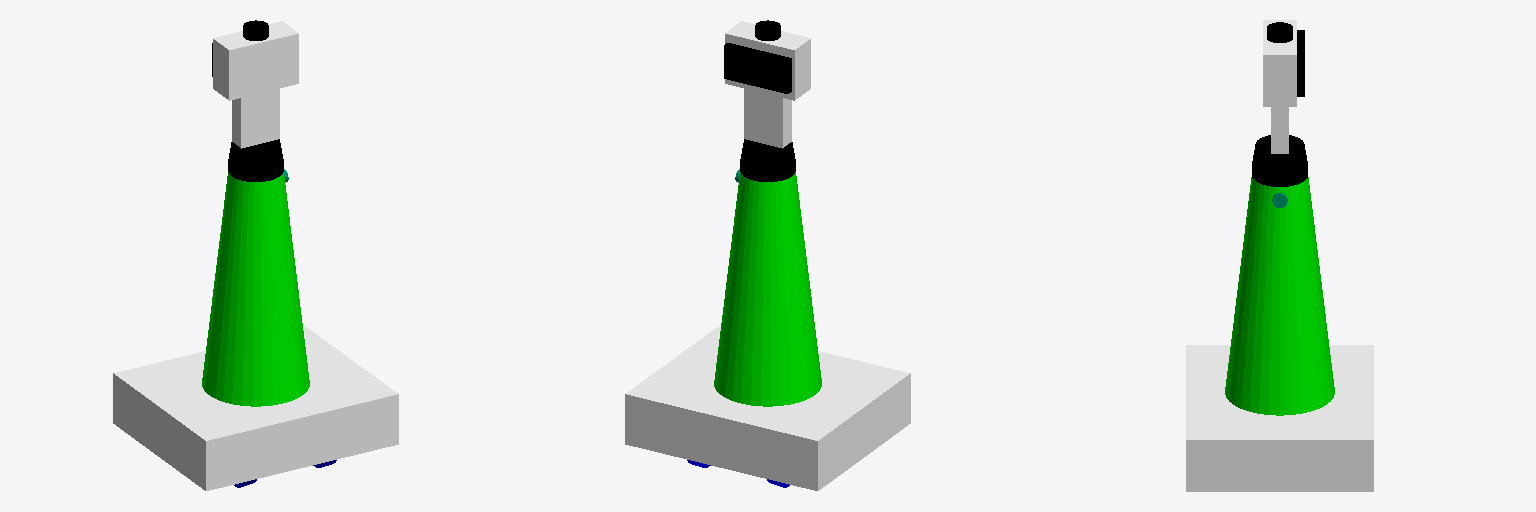
URDF robot description (isrobot):
<?xml version="1.0"?>

<robot xmlns:xacro="http://www.ros.org/wiki/xacro" name="isrobot" is_static="True">
  
  <link name="base_link">
    <visual>
      <origin xyz="0 0 0.13" rpy="0 0 0"/>
      <geometry>
        <box size="0.6 0.5 0.15"/>
      </geometry>
      <material name="base_material">
        <color rgba="1 1 1 1"/>
      </material>
    </visual>
    <collision>
      <origin xyz="0 0 0.13" rpy="0 0 0"/>
      <geometry>
        <box size="0.6 0.5 0.15"/>
      </geometry>
    </collision>
    <inertial>
        <mass value="3" />
        <origin xyz="0 0 0" rpy="0 0 0" />
        <inertia ixx="0.068125" ixy="0" ixz="0" iyy="0.002025" iyz="0" izz="0.09" />
    </inertial>
  </link>

  <joint name="base_frustum" type="fixed">
    <origin xyz="0 0 0" rpy="0 0 0"/>
    <parent link="base_link"/>
    <child link="frustum_link"/>
    <axis xyz="0 0 1"/>
    <dynamics damping="0.5" friction="0.1"/>
  </joint>

  <!-- Frustum Link -->
  <link name="frustum_link">
    <!-- Visual Properties for the frustum (customize as needed) -->
    <visual>
      <origin rpy="0 0 0" xyz="0 0 0.505"/> <!-- Adjust the position -->
      <geometry>
        <mesh filename="package://hardware_interface_pkg/meshes/frustum.dae"/>
      </geometry>
      <material name="frustum_material">
        <color rgba="0 1 0 1"/> <!-- black color for the frustum -->
      </material>
    </visual>
    <!-- Collision Properties for the frustum (customize as needed) -->
    <collision>
      <geometry>
        <mesh filename="package://hardware_interface_pkg/meshes/frustum.dae"/>
      </geometry>
    </collision>
    <inertial>
        <mass value="2.5" />
        <origin xyz="0 0 0" rpy="0 0 0" />
        <inertia ixx="0.02382" ixy="0" ixz="0" iyy="0.00664" iyz="0" izz="0.00664"/>
    </inertial>
  </link>

  <link name="camera_frustum_link">
    <visual>
    <origin xyz="0.08 0 0.805" rpy="0 1.5 0"/>
      <geometry>
        <cylinder length="0.02" radius="0.02"/>
      </geometry>
    </visual>
    <!-- Collision Properties for the wheel (customize as needed) -->
    <collision>
      <geometry>
        <cylinder length="0.02" radius="0.02"/>
      </geometry>
    </collision>
    <inertial>
        <mass value="0.015" />
        <origin xyz="0 0 0" rpy="0 0 0" />
        <inertia ixx="0" ixy="0" ixz="0" iyy="0" iyz="0" izz="0" />
    </inertial>
  </link>

  <joint name="frustum_cylinder" type="fixed">
    <origin xyz="0 0 0" rpy="0 0 0"/>
    <parent link="frustum_link"/>
    <child link="cylindrical_link"/>
    <axis xyz="0 0 1"/>
    <dynamics damping="0.5" friction="0.1"/>
  </joint>

  <joint name="frustum_camera" type="fixed">
    <origin xyz="0 0 0" rpy="0 0 0"/>
    <parent link="frustum_link"/>
    <child link="camera_frustum_link"/>
    <axis xyz="0 0 1"/>
    <dynamics damping="0.5" friction="0.1"/>
  </joint>

  <!-- Cylindrical Link -->
  <link name="cylindrical_link">
    <!-- Visual Properties for the cylindrical shape (customize as needed) -->
    <visual>
      <origin rpy="0 0 0" xyz="0 0 0.8353"/> <!-- Adjust the position -->
      <geometry>
        <cylinder length="0.0606" radius="0.075"/> <!-- Adjust dimensions for the cylinder -->
      </geometry>
      <material name="cylindrical_material">
        <color rgba="0 0 0 1"/> <!-- Red color for the cylindrical shape -->
      </material>
    </visual>
    <!-- Collision Properties for the cylindrical shape (customize as needed) -->
    <collision>
      <geometry>
        <cylinder length="0.0606" radius="0.15"/> <!-- Adjust dimensions for collision -->
      </geometry>
    </collision>
    <inertial>
        <mass value="0.25" />
        <origin xyz="0 0 0" rpy="0 0 0" />
        <inertia ixx="0.000137" ixy="0" ixz="0" iyy="0.000137" iyz="0" izz="0.000137" />
    </inertial>
  </link>

  <joint name="cylindrical_midbody" type="fixed">
    <origin xyz="0 0 0" rpy="0 0 0"/>
    <parent link="cylindrical_link"/>
    <child link="midbody_link"/>
    <axis xyz="0 0 1"/>
  </joint>

  <!-- Spherical Link -->
  <link name="midbody_link">
    <!-- Visual Properties for the spherical shape (customize as needed) -->
    <visual>
      <origin rpy="0 0 0" xyz="0 0 0.8996"/> <!-- Adjust the position -->
      <geometry>
        <mesh filename="package://hardware_interface_pkg/meshes/midbody.dae"/>
      </geometry>
      <material name="spherical_material">
        <color rgba="0 0 0 1"/> <!-- Blue color for the spherical shape -->
      </material>
    </visual>
    <!-- Collision Properties for the spherical shape (customize as needed) -->
    <collision>
      <geometry>
        <mesh filename="package://hardware_interface_pkg/meshes/midbody.dae"/>
      </geometry>
    </collision>
    <inertial>
        <mass value="0.25" />
        <origin xyz="0 0 0" rpy="0 0 0" />
        <inertia ixx="0.0000488" ixy="0" ixz="0" iyy="0.000013" iyz="0" izz="0.000013" />
    </inertial>
  </link>

  <joint name="midbody_cuboidal" type="fixed">
    <origin xyz="0 0 0" rpy="0 0 0"/>
    <parent link="midbody_link"/>
    <child link="cuboidal_link"/>
    <axis xyz="0 0 1"/>
  </joint>

  <!-- Cuboidal Link -->
  <link name="cuboidal_link">
    <!-- Visual Properties for the cuboidal shape (customize as needed) -->
    <visual>
      <origin rpy="0 0 0" xyz="0 0 1.05"/> <!-- Adjust the position -->
      <geometry>
        <box size="0.12 0.05 0.268"/> <!-- Adjust dimensions for the cuboid -->
      </geometry>
      <material name="cuboidal_material">
        <color rgba="1 1 1 1"/> <!-- Yellow color for the cuboidal shape -->
      </material>
    </visual>
    <!-- Collision Properties for the cuboidal shape (customize as needed) -->
    <collision>
      <geometry>
        <box size="0.12 0.05 0.268"/> <!-- Adjust dimensions for collision -->
      </geometry>
    </collision>
    <inertial>
        <mass value="0.5" />
        <origin xyz="0 0 0" rpy="0 0 0" />
        <inertia ixx="0.018581" ixy="0" ixz="0" iyy="0.000258" iyz="0" izz="0.000009" />
    </inertial>
  </link>

  <joint name="cuboidal_head" type="fixed">
    <origin xyz="0 0 0" rpy="0 0 0"/>
    <parent link="cuboidal_link"/>
    <child link="head_link"/>
    <axis xyz="0 0 1"/>
  </joint>

  <!-- Head Link (Add visual, collision, inertial, and joints as needed) -->
  <link name="head_link">
    <!-- Visual Properties for the cuboidal shape (customize as needed) -->
    <visual>
      <origin rpy="0 0 0" xyz="0 0 1.1666"/> <!-- Adjust the position -->
      <geometry>
        <box size="0.2184 0.09 0.15"/> <!-- Adjust dimensions for the cuboid -->
      </geometry>
      <material name="cuboidal_material">
        <color rgba="1 1 1 1"/> <!-- Yellow color for the cuboidal shape -->
      </material>
    </visual>
    <!-- Collision Properties for the cuboidal shape (customize as needed) -->
    <collision>
      <geometry>
        <box size="0.2184 0.09 0.15"/> <!-- Adjust dimensions for collision -->
      </geometry>
    </collision>
    <inertial>
        <mass value="1" />
        <origin xyz="0 0 0" rpy="0 0 0" />
        <inertia ixx="0.00765" ixy="0" ixz="0" iyy="0.01755" iyz="0" izz="0.014" />
    </inertial>
  </link>

  <joint name="head_display" type="fixed">
    <origin xyz="0 0 0" rpy="0 0 0"/>
    <parent link="head_link"/>
    <child link="display_link"/>
    <axis xyz="0 0 1"/>
  </joint>

  <!-- Head Link (Add visual, collision, inertial, and joints as needed) -->
  <link name="display_link">
    <!-- Visual Properties for the cuboidal shape (customize as needed) -->
    <visual>
      <origin rpy="0 0 0" xyz="0 0.03 1.1666"/> <!-- Adjust the position -->
      <geometry>
        <box size="0.2 0.07 0.1"/> <!-- Adjust dimensions for the cuboid -->
      </geometry>
      <material name="cuboidal_material">
        <color rgba="0 0 0 1"/> <!-- Yellow color for the cuboidal shape -->
      </material>
    </visual>
    <!-- Collision Properties for the cuboidal shape (customize as needed) -->
    <collision>
      <geometry>
        <box size="0.2 0.07 0.1"/> <!-- Adjust dimensions for collision -->
      </geometry>
    </collision>
    <inertial>
        <mass value="0.6" />
        <origin xyz="0 0 0" rpy="0 0 0" />
        <inertia ixx="0.0043725" ixy="0" ixz="0" iyy="0.0125" iyz="0" izz="0.011225" />
    </inertial>
  </link>

  <joint name="head_lidar" type="fixed">
    <origin xyz="0 0 0" rpy="0 0 0"/>
    <parent link="head_link"/>
    <child link="lidar_link"/>
    <axis xyz="0 0 1"/>
  </joint>

<!-- Lidar Link -->
  <link name="lidar_link">
    <!-- Visual Properties for the lidar (customize as needed) -->
    <visual>
    <origin rpy="0 0 0" xyz="0 0 1.256" />
      <geometry>
        <cylinder length="0.03" radius="0.035"/>
      </geometry>
      <material name="lidar_material">
        <color rgba="0 0 0 1"/> <!-- Red color for lidar -->
    </material>
    </visual>
    <!-- Collision Properties for the lidar (customize as needed) -->
    <collision>
      <geometry>
        <cylinder length="0.03" radius="0.035"/>
      </geometry>
    </collision>
    <inertial>
        <mass value="0.15" />
        <origin xyz="0 0 0" rpy="0 0 0" />
        <inertia ixx="0.00013" ixy="0" ixz="0" iyy="0.00013" iyz="0" izz="0.000065" />
    </inertial>
  </link>

  <!-- Wheel Link -->
  <link name="wheel_link_1">
    
    <!-- Visual Properties for the wheel (customize as needed) -->
    <visual>
    <origin xyz="0 0 0" rpy="0 1.5 0"/>
      <geometry>
        <cylinder length="0.04" radius="0.07"/>
      </geometry>
      <material name="wheel_material">
        <color rgba="0 0 1 1"/> <!-- Black color for the wheel -->
      </material>
    </visual>
    <!-- Collision Properties for the wheel (customize as needed) -->
    <collision>
      <geometry>
        <cylinder length="0.04" radius="0.07"/>
      </geometry>
    </collision>
    <inertial>
        <mass value="0.15" />
        <origin xyz="0 0 0" rpy="0 0 0" />
        <inertia ixx="0.004" ixy="0.001" ixz="0" iyy="0.006" iyz="0" izz="0.007" />
    </inertial>
  </link>

  <!-- Wheel Link -->
  <link name="wheel_link_2">
    
    <!-- Visual Properties for the wheel (customize as needed) -->
    <visual>
    <origin xyz="0 0 0" rpy="0 1.5 0"/>
      <geometry>
        <cylinder length="0.04" radius="0.07"/>
      </geometry>
      <material name="wheel_material">
        <color rgba="0 0 1 1"/> <!-- Black color for the wheel -->
      </material>
    </visual>
    <!-- Collision Properties for the wheel (customize as needed) -->
    <collision>
      <geometry>
        <cylinder length="0.04" radius="0.07"/>
      </geometry>
    </collision>
    <inertial>
        <mass value="0.15" />
        <origin xyz="0 0 0" rpy="0 0 0"/>
        <inertia ixx="0.004" ixy="0.001" ixz="0" iyy="0.006" iyz="0" izz="0.007" />
    </inertial>
  </link>

  <!-- Wheel Link -->
  <link name="wheel_link_3">
    
    <!-- Visual Properties for the wheel (customize as needed) -->
    <visual>
    <origin xyz="0 0 0" rpy="0 1.5 0"/>
      <geometry>
        <cylinder length="0.04" radius="0.07"/>
      </geometry>
      <material name="wheel_material">
        <color rgba="0 0 1 1"/> <!-- Black color for the wheel -->
      </material>
    </visual>
    <!-- Collision Properties for the wheel (customize as needed) -->
    <collision>
      <geometry>
        <cylinder length="0.04" radius="0.07"/>
      </geometry>
    </collision>
    <inertial>
        <mass value="0.15" />
        <origin xyz="0 0 0" rpy="0 0 0"/>
        <inertia ixx="0.004" ixy="0.001" ixz="0" iyy="0.006" iyz="0" izz="0.007" />
    </inertial>
  </link>
  <!-- Wheel Link -->
  <link name="wheel_link_4">
    
    <!-- Visual Properties for the wheel (customize as needed) -->
    <visual>
    <origin xyz="0 0 0" rpy="0 1.5 0"/>
      <geometry>
        <cylinder length="0.04" radius="0.07"/>
      </geometry>
      <material name="wheel_material">
        <color rgba="0 0 1 1"/> <!-- Black color for the wheel -->
      </material>
    </visual>
    <!-- Collision Properties for the wheel (customize as needed) -->
    <collision>
      <geometry>
        <cylinder length="0.04" radius="0.07"/>
      </geometry>
    </collision>
    <inertial>
            <mass value="0.15" />
            <origin xyz="0 0 0" rpy="0 0 0" />
            <inertia ixx="0.004" ixy="0.001" ixz="0" iyy="0.006" iyz="0" izz="0.007" />
    </inertial>
  </link>

  <!-- Attach the wheels to the base link using joints -->
  <joint name="wheel_joint_1" type="continuous">
    <origin xyz="0.125 0.125 0.055" rpy="0 0 0"/>
    <parent link="base_link"/>
    <child link="wheel_link_1"/>
    <axis xyz="0 1 0"/>
    <limit effort="10000" velocity="1000"/>
    <dynamics damping="0.5" friction="0.2"/>
    
  </joint>

  <joint name="wheel_joint_2" type="continuous">
    <origin xyz="-0.125 0.125 0.055" rpy="0 0 0"/>
    <parent link="base_link"/>
    <child link="wheel_link_2"/>
    <axis xyz="0 1 0"/>
    <limit effort="10000" velocity="1000"/>
    <dynamics damping="0.5" friction="0.2"/>
  </joint>

  <joint name="wheel_joint_3" type="continuous">
    <origin xyz="-0.125 -0.125 0.055" rpy="0 0 0"/>
    <parent link="base_link"/>
    <child link="wheel_link_3"/>
    <axis xyz="0 1 0"/>
    <limit effort="10000" velocity="1000"/>
    <dynamics damping="0.5" friction="0.2"/>
  </joint>

  <joint name="wheel_joint_4" type="continuous">
    <origin xyz="0.125 -0.125 0.055" rpy="0 0 0"/>
    <parent link="base_link"/>
    <child link="wheel_link_4"/>
    <axis xyz="0 1 0"/>
    <limit effort="10000" velocity="1000"/>
    <dynamics damping="0.5" friction="0.2"/>
  </joint>

  <gazebo>
  <plugin name="gazebo_ros_control" filename="libgazebo_ros_control.so">
    <robotNamespace>/</robotNamespace>
    <robotSimType>gazebo_ros_control/DefaultRobotHWSim</robotSimType>
  </plugin>
</gazebo>


  <!-- Front Camera Sensor -->
  <gazebo reference="head_link">
  <material>Gazebo/SkyBlue</material>
    <sensor type="camera" name="head_camera">
      <camera name="head_camera">
        <!-- Camera parameters -->
        <horizontal_fov>1.047</horizontal_fov>
        <image>
          <width>640</width>
          <height>480</height>
          <format>R8G8B8</format>
        </image>
        <clip>
          <near>0.01</near>
          <far>100</far>
        </clip>
        <noise>
          <type>gaussian</type>
          <!-- Noise is sampled independently per pixel on each frame.
               That pixel's noise value is added to each of its color
               channels, which at that point lie in the range [0,1]. -->
          <mean>0.0</mean>
          <stddev>0.007</stddev>
        </noise>
      </camera>      
      <!-- Add a plugin to specify the ROS topic name -->
      <plugin name="camera_controller" filename="libgazebo_ros_camera.so">
        <!-- Sensor settings -->
        <always_on>true</always_on>
        <update_rate>30.0</update_rate>
        <visualize>true</visualize>
        <cameraName>isrobot/front_cam</cameraName>
        <imageTopicName>image_raw</imageTopicName>
        <cameraInfoTopicName>camera_info</cameraInfoTopicName>
        <frameName>camera_link</frameName>
        <hackBaseline>0.07</hackBaseline>
        <distortionK1>0.0</distortionK1>
        <distortionK2>0.0</distortionK2>
        <distortionK3>0.0</distortionK3>
        <distortionT1>0.0</distortionT1>
        <distortionT2>0.0</distortionT2>
      </plugin>
    </sensor>
  </gazebo>  

  <!--Side camera sensor-->

  <gazebo reference="camera_frustum_link">
    <material>Gazebo/Blue</material>
    <sensor type="camera" name="side_camera">
      <camera name="side_camera">
        <!-- Camera parameters -->
        <horizontal_fov>1.047</horizontal_fov>
        <image>
          <width>640</width>
          <height>480</height>
          <format>R8G8B8</format>
        </image>
        <clip>
          <near>0.01</near>
          <far>100</far>
        </clip>
        <noise>
          <type>gaussian</type>
          <!-- Noise is sampled independently per pixel on each frame.
               That pixel's noise value is added to each of its color
               channels, which at that point lie in the range [0,1]. -->
          <mean>0.0</mean>
          <stddev>0.007</stddev>
        </noise>
      </camera>      
      <!-- Add a plugin to specify the ROS topic name -->
      <plugin name="camera_controller" filename="libgazebo_ros_camera.so">
        <!-- Sensor settings -->
        <always_on>true</always_on>
        <update_rate>30.0</update_rate>
        <visualize>true</visualize>
        <cameraName>isrobot/side_cam</cameraName>
        <imageTopicName>image_raw</imageTopicName>
        <cameraInfoTopicName>camera_info</cameraInfoTopicName>
        <frameName>camera_link</frameName>
        <hackBaseline>0.07</hackBaseline>
        <distortionK1>0.0</distortionK1>
        <distortionK2>0.0</distortionK2>
        <distortionK3>0.0</distortionK3>
        <distortionT1>0.0</distortionT1>
        <distortionT2>0.0</distortionT2>
      </plugin>
    </sensor>
  </gazebo> 

  <!--Lidar Sensor-->
  <gazebo reference="lidar_link">
        <material>Gazebo/Red</material>
 
        <sensor name="lidar" type="ray">
            <pose> 0 0 0 0 0 0 </pose>
            <visualize>true</visualize>
            <update_rate>10</update_rate>
            <ray>
                <scan>
                    <horizontal>
                        <samples>360</samples>
                        <min_angle>-3.14</min_angle>
                        <max_angle>3.14</max_angle>
                    </horizontal>
                </scan>
                <range>
                    <min>0.3</min>
                    <max>12</max>
                </range>
            </ray>
            <plugin name="laser_controller" filename="libgazebo_ros_laser.so">
                <topicName>isrobot/laser</topicName>
                <ros>
                    <argument>~/out:=scan</argument>
                </ros>
                <output_type>sensor_msgs/LaserScan</output_type>
                <frame_name>laser_frame</frame_name>
            </plugin>
        </sensor>
    </gazebo>
    <!--IMU Sensor-->
    <gazebo reference="frustum_link">
    <gravity>true</gravity>
    <sensor name="imu_sensor" type="imu">
      <always_on>true</always_on>
      <update_rate>100</update_rate>
      <visualize>true</visualize>
      <topic>__default_topic__</topic>
      <plugin filename="libgazebo_ros_imu_sensor.so" name="imu_plugin">
        <topicName>isrobot/imu</topicName>
        <bodyName>imu_link</bodyName>
        <updateRateHZ>10.0</updateRateHZ>
        <gaussianNoise>0.0</gaussianNoise>
        <xyzOffset>0 0 0</xyzOffset>
        <rpyOffset>0 0 0</rpyOffset>
        <frameName>imu_link</frameName>
        <initialOrientationAsReference>false</initialOrientationAsReference>
      </plugin>
    </sensor>
    </gazebo>

    <transmission name="wheel_1_transmission">
      <type>transmission_interface/SimpleTransmission</type>
      <joint name="wheel_joint_1">
        <hardwareInterface>hardware_interface/VelocityJointInterface</hardwareInterface>
      </joint>
      <actuator name="wheel_1_actuator">
        <mechanicalReduction>1</mechanicalReduction>
        <hardwareInterface>hardware_interface/VelocityJointInterface</hardwareInterface>
      </actuator>
    </transmission>

    <transmission name="wheel_2_transmission">
      <type>transmission_interface/SimpleTransmission</type>
      <joint name="wheel_joint_2">
        <hardwareInterface>hardware_interface/VelocityJointInterface</hardwareInterface>
      </joint>
      <actuator name="wheel_2_actuator">
        <mechanicalReduction>1</mechanicalReduction>
        <hardwareInterface>hardware_interface/VelocityJointInterface</hardwareInterface>
      </actuator>
    </transmission>

    <transmission name="wheel_3_transmission">
      <type>transmission_interface/SimpleTransmission</type>
      <joint name="wheel_joint_3">
        <hardwareInterface>hardware_interface/VelocityJointInterface</hardwareInterface>
      </joint>
      <actuator name="wheel_3_actuator">
        <mechanicalReduction>1</mechanicalReduction>
        <hardwareInterface>hardware_interface/VelocityJointInterface</hardwareInterface>
      </actuator>
    </transmission>

    <transmission name="wheel_4_transmission">
      <type>transmission_interface/SimpleTransmission</type>
      <joint name="wheel_joint_4">
        <hardwareInterface>hardware_interface/VelocityJointInterface</hardwareInterface>
      </joint>
      <actuator name="wheel_4_actuator">
        <mechanicalReduction>1</mechanicalReduction>
        <hardwareInterface>hardware_interface/VelocityJointInterface</hardwareInterface>
      </actuator>
    </transmission>
 

  <gazebo reference="wheel_link_1">
  <sensor name="joint_state_1" type="joint_state">
    <always_on>true</always_on>
    <update_rate>100</update_rate>
    <visualize>true</visualize>
    <plugin name="joint_state_controller_1" filename="libgazebo_ros_joint_state_publisher.so">
      <jointName>wheel_joint_1</jointName>
      <alwaysOn>true</alwaysOn>
      <updateRate>100</updateRate>
      <topicName>joint_states</topicName>
    </plugin>
  </sensor>
</gazebo>


</robot>


  

--- What the picture shows (computed from the rendered views, not written in the file) ---
Views: 3 orthographic renders of the robot side by side, from view 1: azimuth 30°, elevation 25°; view 2: azimuth 150°, elevation 25°; view 3: azimuth 270°, elevation 25°.
Robot: isrobot — 13 links, 12 joints (4 continuous, 8 fixed); root link base_link; default pose: all joints at 0.
Visible links, largest first — view 1: base_link, frustum_link, head_link, cuboidal_link, midbody_link, cylindrical_link; view 2: base_link, frustum_link, head_link, display_link, cuboidal_link, midbody_link, cylindrical_link; view 3: base_link, frustum_link, head_link, midbody_link, cuboidal_link, cylindrical_link, display_link.
Link boxes in pixels (x1=…): base_link: x1=113, y1=327, x2=398, y2=490; frustum_link: x1=202, y1=172, x2=309, y2=406; head_link: x1=213, y1=21, x2=298, y2=100; cuboidal_link: x1=232, y1=89, x2=279, y2=148; midbody_link: x1=228, y1=139, x2=283, y2=172; cylindrical_link: x1=228, y1=162, x2=283, y2=181; base_link: x1=625, y1=327, x2=910, y2=490; frustum_link: x1=714, y1=172, x2=821, y2=406; head_link: x1=725, y1=21, x2=810, y2=100; display_link: x1=724, y1=43, x2=791, y2=93; cuboidal_link: x1=744, y1=89, x2=791, y2=148; midbody_link: x1=740, y1=139, x2=795, y2=172; cylindrical_link: x1=740, y1=162, x2=795, y2=181; base_link: x1=1186, y1=345, x2=1373, y2=491; frustum_link: x1=1225, y1=177, x2=1334, y2=415; head_link: x1=1263, y1=20, x2=1296, y2=106; midbody_link: x1=1252, y1=135, x2=1307, y2=176; cuboidal_link: x1=1271, y1=107, x2=1288, y2=153; cylindrical_link: x1=1252, y1=168, x2=1307, y2=186; display_link: x1=1297, y1=30, x2=1304, y2=96.
Bounding box of the posed robot: 0.6 × 0.5 × 1.29 m (x, y, z).
Meshes: 2 distinct files referenced, 2 mesh visuals loaded (2 Collada DAE).
